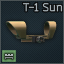Recknagel Era-Tac Sunshade mount for Aimpoint T-1: (0, 0, 64, 64)
